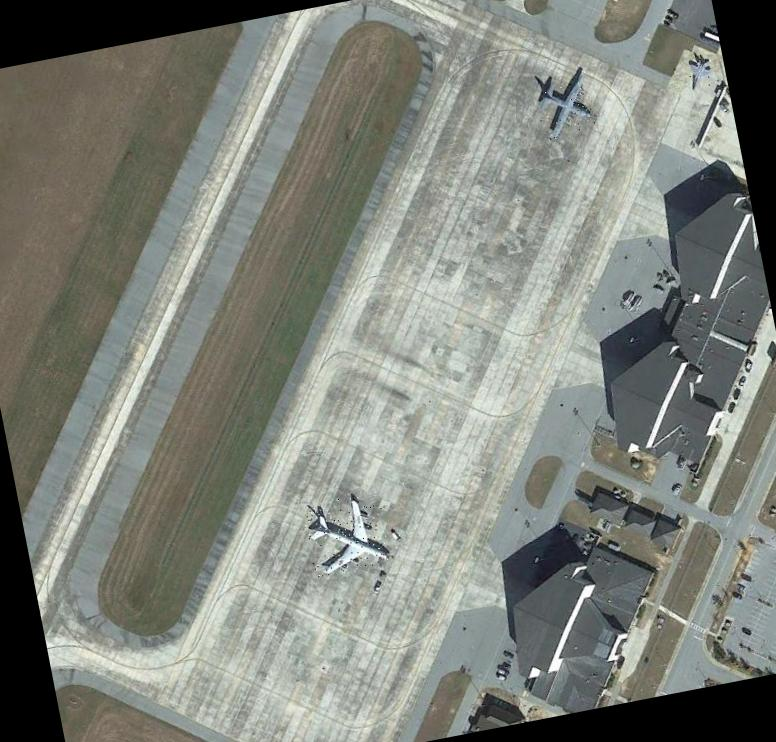A11: (302, 491, 392, 578)
A15: (686, 50, 718, 89)
A2: (531, 70, 598, 142)
